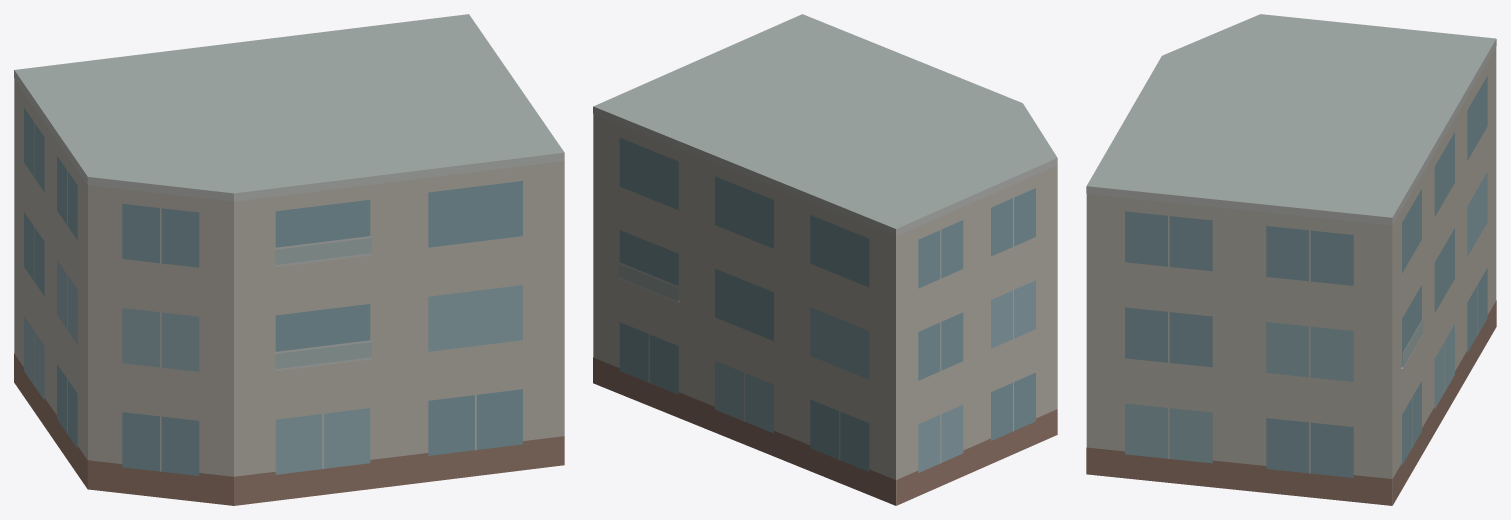
File: residential-087d02f8-8a7a-46a0-bcc4-d8b6a17d0432.glb
3 views of the same model, side by side, from view 1: azimuth 30°, elevation 25°; view 2: azimuth 150°, elevation 25°; view 3: azimuth 270°, elevation 25° (orthographic). The views are drawn at different scales.
Visible parts, largest first — view 1: residential-087d02f8-8a7a-46a0-bcc4-d8b6a17d0432.tmp; view 2: residential-087d02f8-8a7a-46a0-bcc4-d8b6a17d0432.tmp; view 3: residential-087d02f8-8a7a-46a0-bcc4-d8b6a17d0432.tmp.
Part boxes in pixels (x1=…): residential-087d02f8-8a7a-46a0-bcc4-d8b6a17d0432.tmp: x1=14, y1=14, x2=564, y2=505; residential-087d02f8-8a7a-46a0-bcc4-d8b6a17d0432.tmp: x1=593, y1=14, x2=1057, y2=505; residential-087d02f8-8a7a-46a0-bcc4-d8b6a17d0432.tmp: x1=1086, y1=14, x2=1496, y2=505.
Size of the model in its own units: 13.88 by 9.15 by 11.81.
